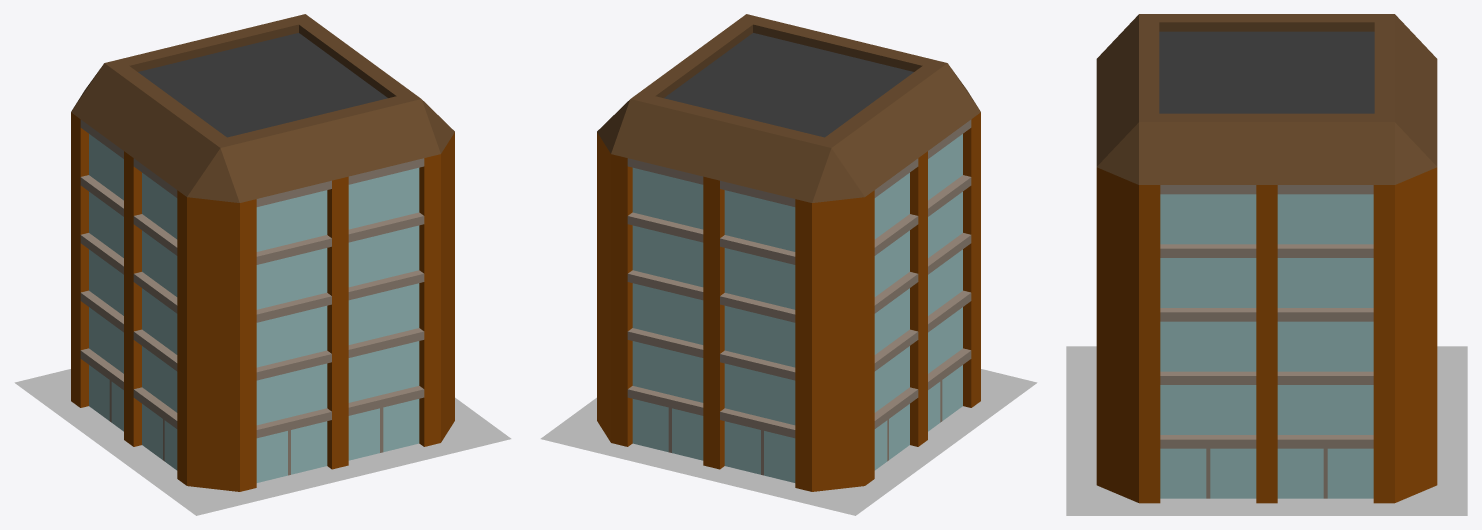
Rendered from building1-2.dae.
3 views of the same model, side by side, from view 1: azimuth 30°, elevation 25°; view 2: azimuth 150°, elevation 25°; view 3: azimuth 270°, elevation 25° (orthographic). The views are drawn at different scales.
Visible parts, largest first — view 1: SketchUp (×50); view 2: SketchUp (×50); view 3: SketchUp (×29).
Part boxes in pixels (left/top/right/bottom): SketchUp (×50): left=14, top=14, right=511, bottom=515; SketchUp (×50): left=540, top=14, right=1037, bottom=515; SketchUp (×29): left=1066, top=14, right=1467, bottom=515.
Size of the model in its own units: 39.37 by 39.37 by 39.33.
